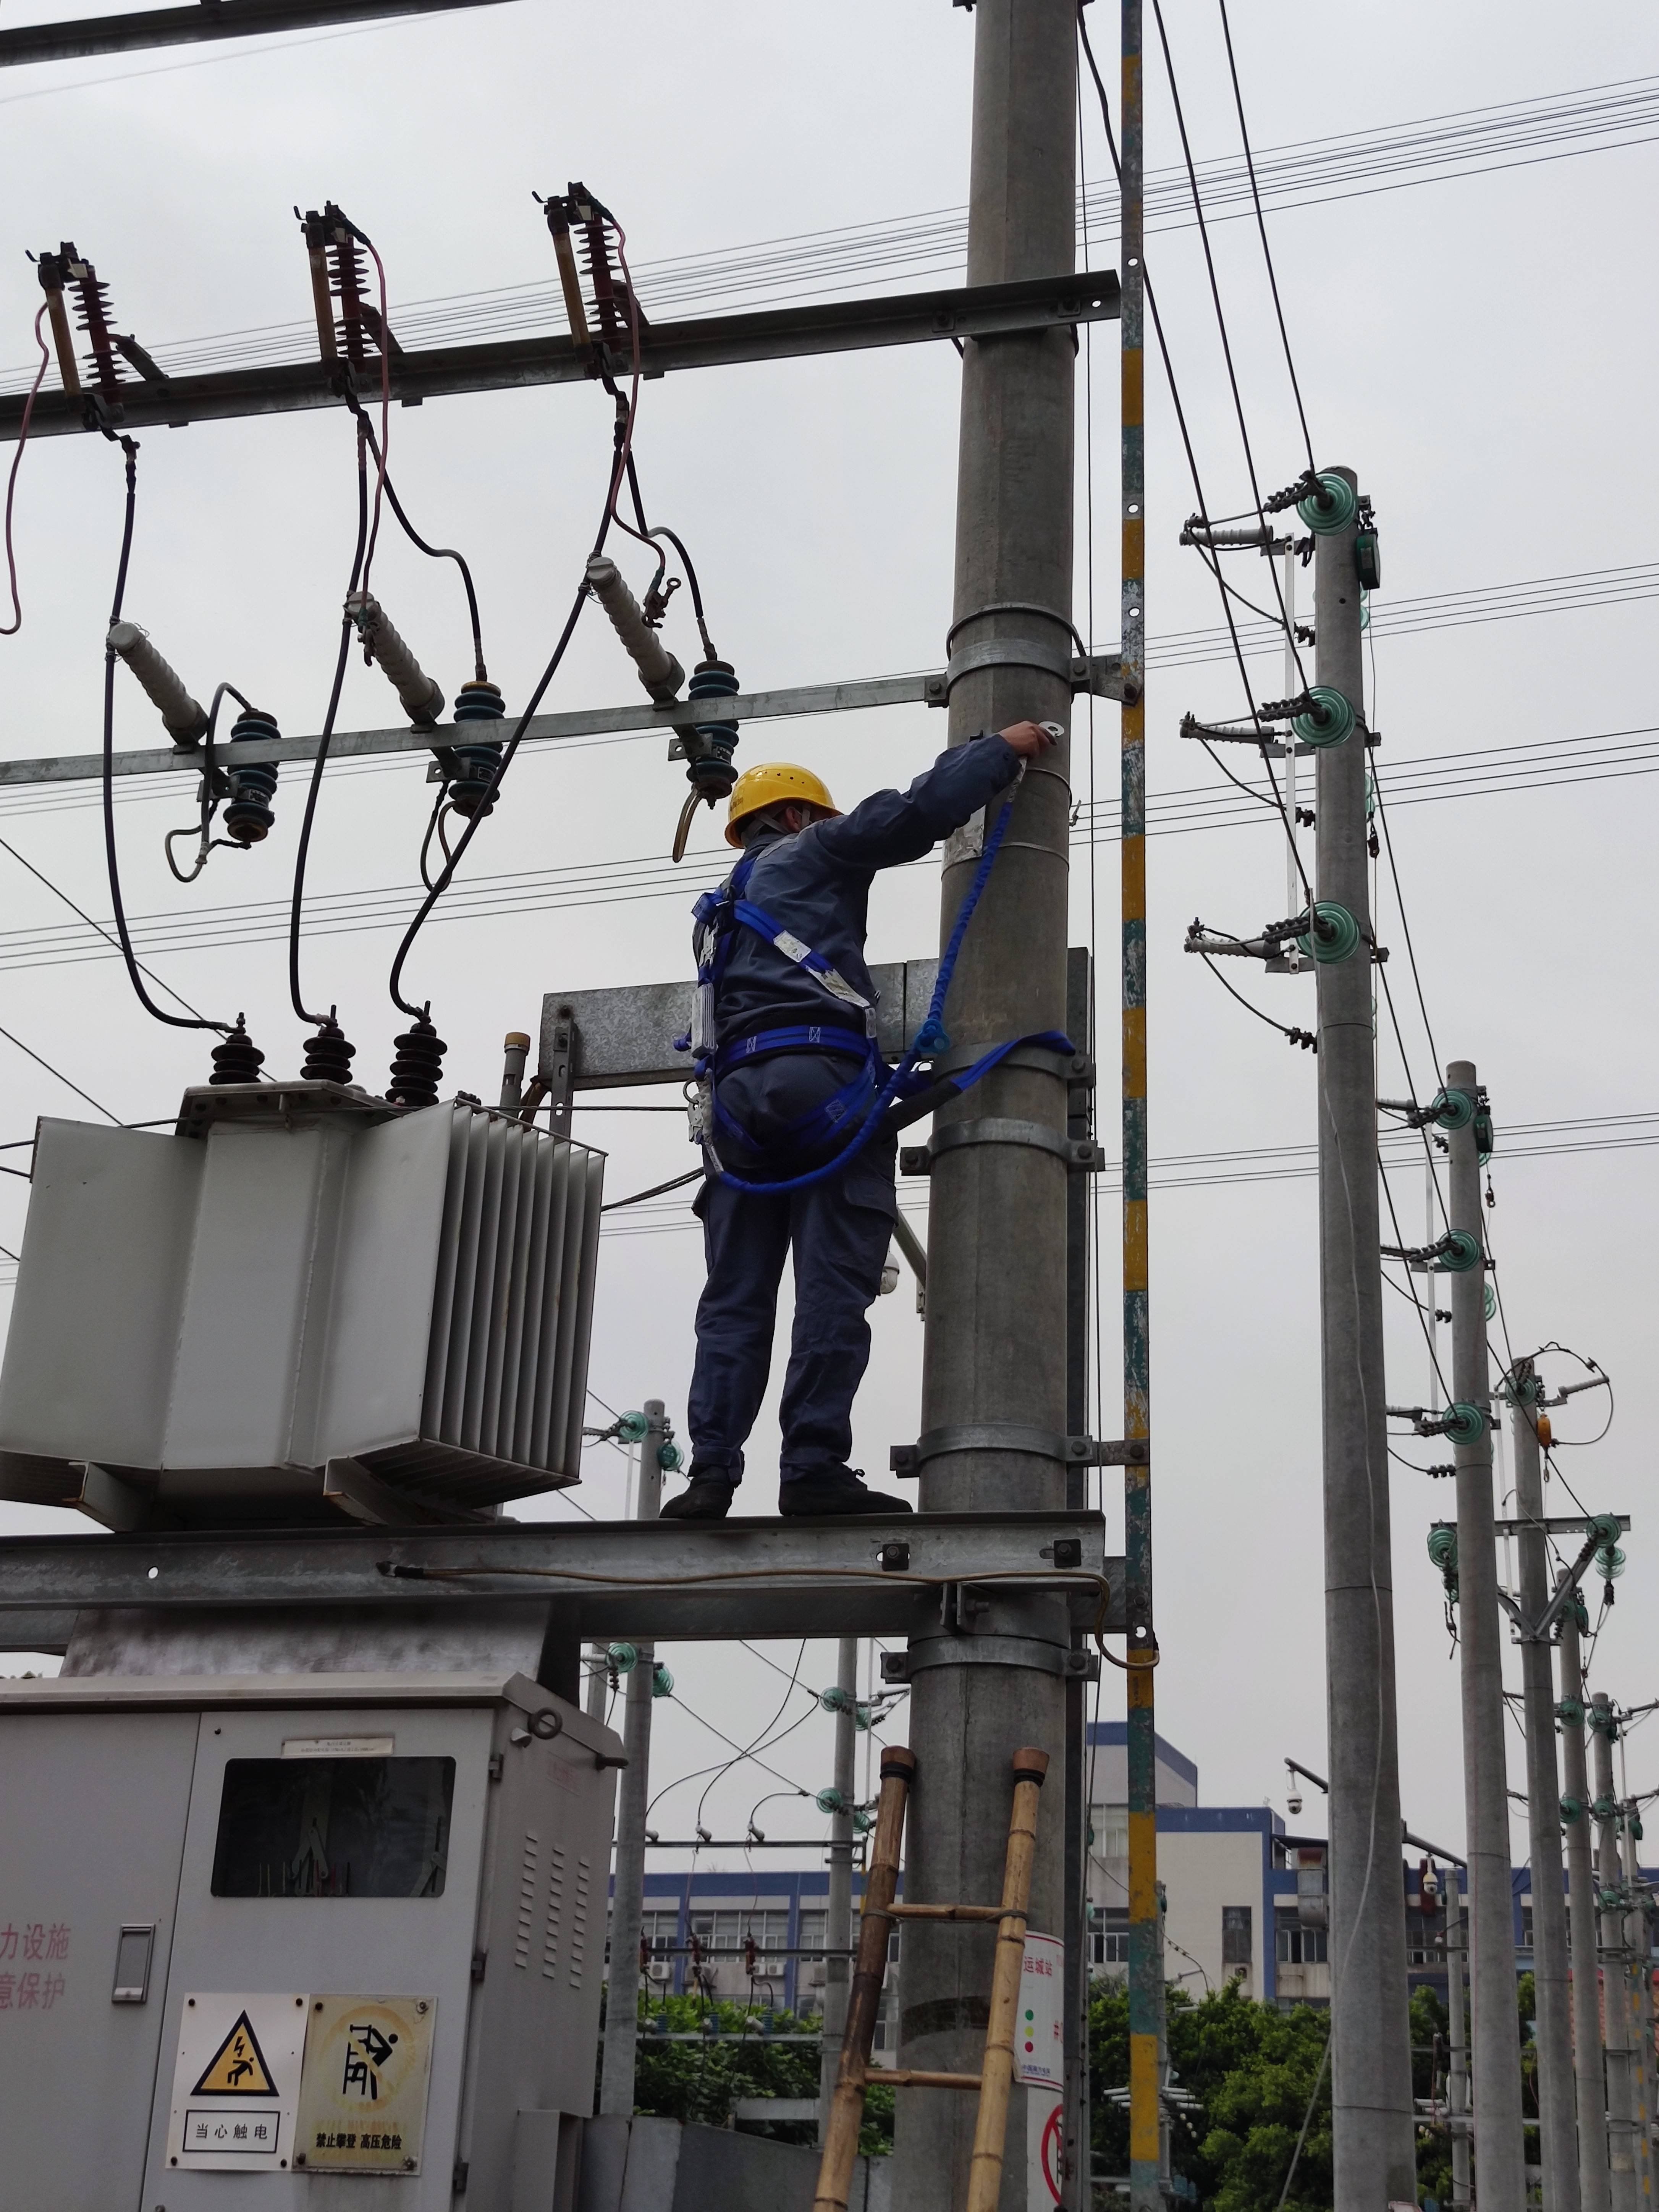downsuit: (687, 1062, 904, 1477)
upsuit: (697, 738, 1014, 1055)
